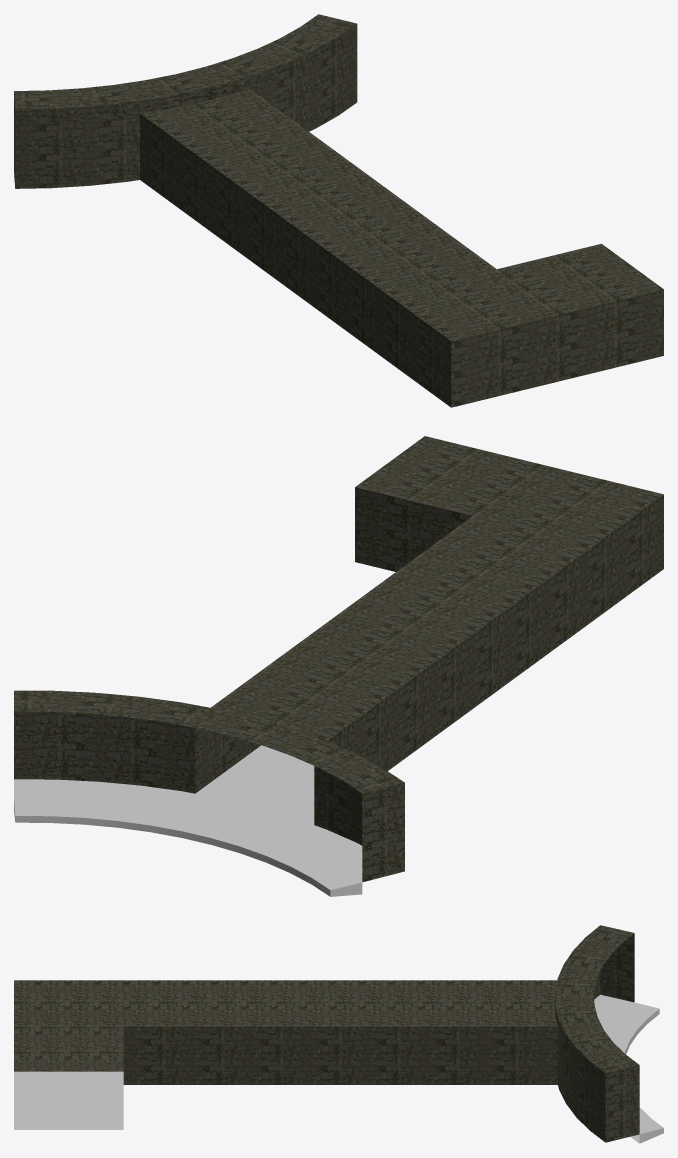
Rendered from Room4.fbx.
3 views of the same model, one above another, from view 1: azimuth 30°, elevation 25°; view 2: azimuth 150°, elevation 25°; view 3: azimuth 270°, elevation 25° (orthographic). The views are drawn at different scales.
Parts seen in each view (by area): view 1: Room4; view 2: Room4; view 3: Room4.
Part boxes in pixels (box(x1,y1,x2,y2)): Room4: box(14, 14, 663, 407); Room4: box(14, 436, 663, 896); Room4: box(14, 925, 663, 1143).
Bounding box in the file's own units: 2824 × 701 × 5238.
